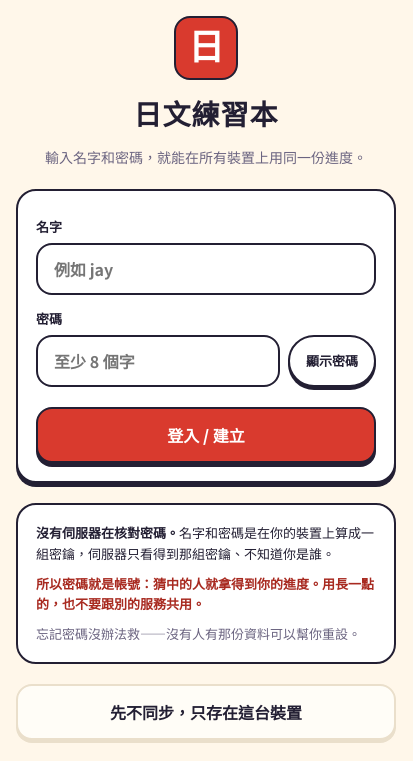
登入頁 › 名字 jay 密碼 short 會擋下來
This screenshot has width=413, height=761.
In the field labelled "名字": x=206, y=269 x1=36 y1=243 x2=376 y2=295, type "jay"
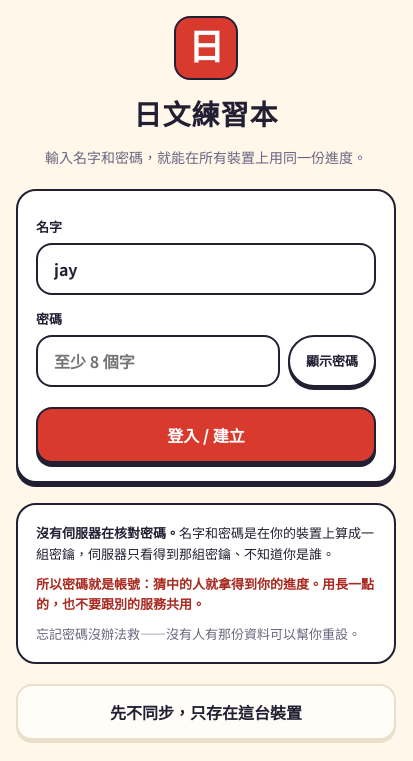
In the password field labelled "密碼": x=158, y=361 x1=36 y1=335 x2=280 y2=387, type "short"
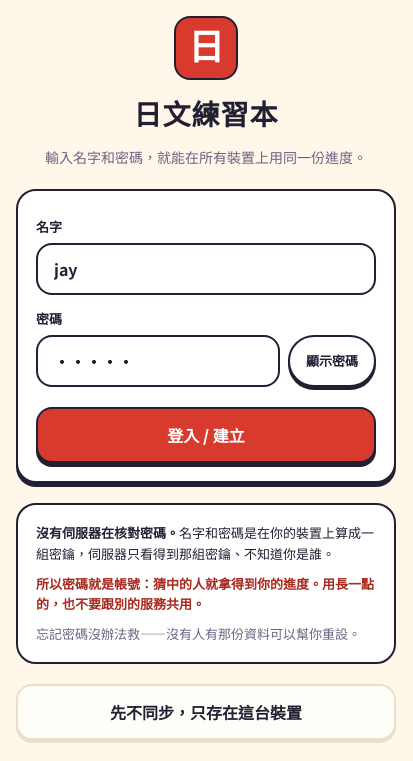
Click the button "登入 / 建立": x=206, y=435 x1=36 y1=407 x2=376 y2=463
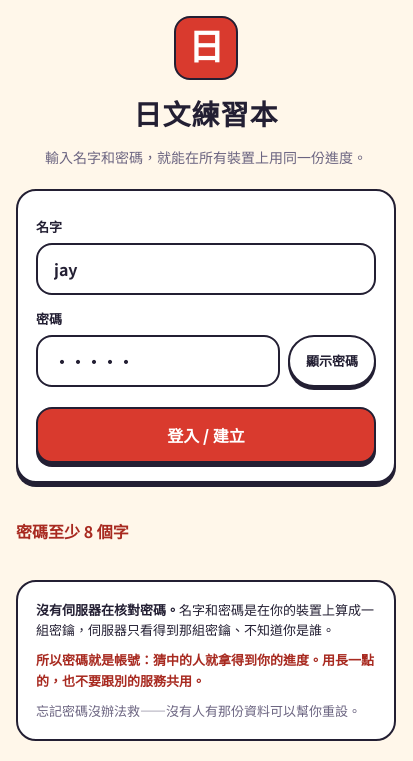
Expected: the text "密碼至少 8 個字" is shown, x1=16 y1=519 x2=129 y2=543
